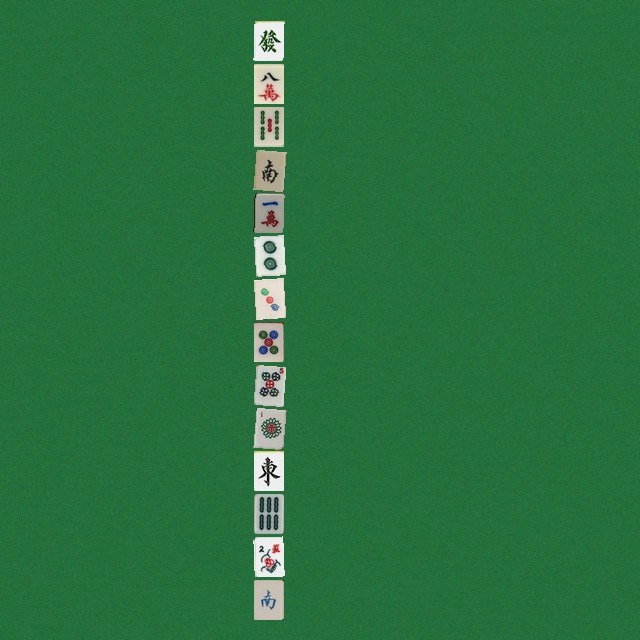tile: (253, 20, 283, 60), (253, 63, 283, 103), (253, 106, 283, 146), (253, 149, 283, 189), (253, 192, 283, 232), (253, 235, 283, 275), (253, 278, 283, 318), (253, 321, 283, 361), (253, 364, 283, 404), (253, 407, 283, 447), (253, 450, 283, 490), (253, 493, 283, 533), (253, 536, 283, 576), (253, 579, 283, 619)
